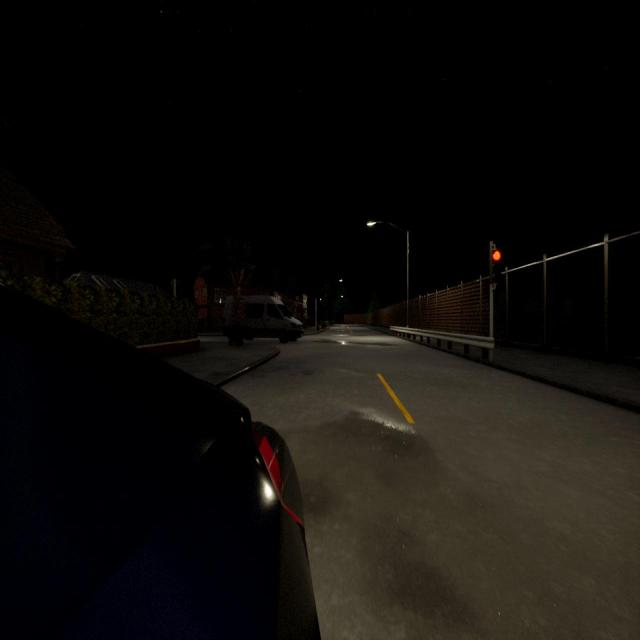Vehicle: (0, 285, 320, 638), (224, 299, 303, 342)
traffic_light: (492, 250, 502, 282)
